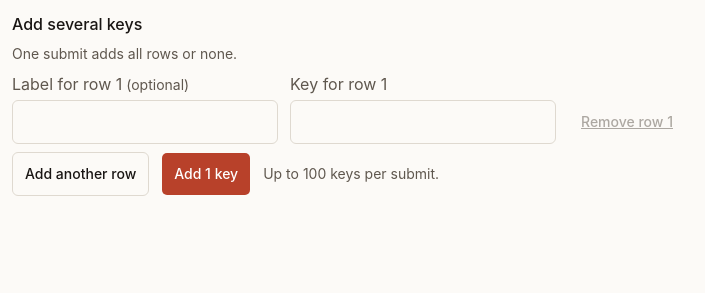
Test: BulkAddKeysForm › adds and removes rows, and will not remove the last one
This screenshot has width=705, height=293.
Expected: the button "Remove row 1" is disabled, [568,100,686,144]
Click the button "Add another row" at (81, 174), box [12,152,149,196]
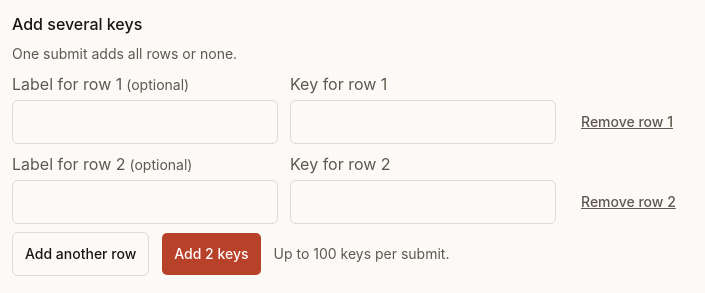
Result: the button "Add 2 keys" is shown at [161,232,262,276]
Click the button "Remove row 2" at (628, 202), box [568,180,689,224]
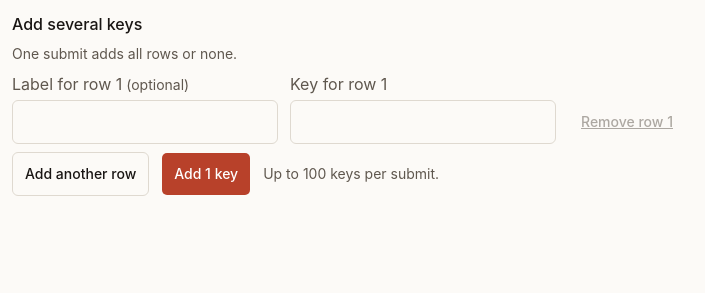
Result: the label labelled "Key for row 2" is gone
Result: the button "Add 1 key" is shown at [161,152,251,196]
